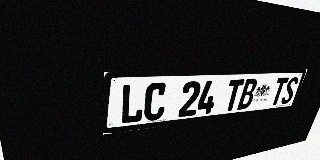2: (178, 81, 202, 117)
4: (196, 80, 219, 115)
B: (237, 79, 258, 110)
C: (143, 82, 168, 122)
L: (120, 83, 145, 125)
S: (280, 77, 299, 104)
T: (222, 79, 245, 112), (269, 77, 289, 106)
